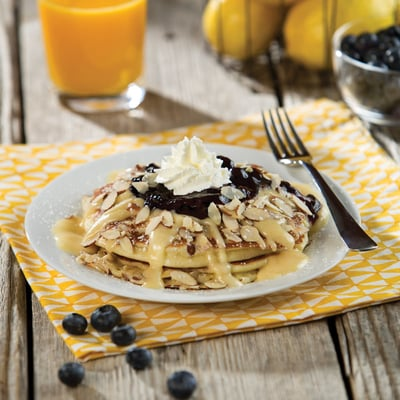burger: (261, 106, 378, 252)
pizza: (37, 0, 149, 114)
